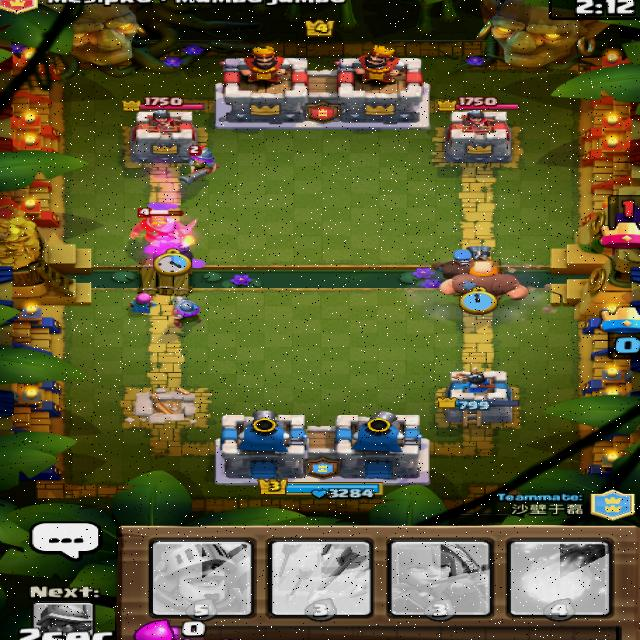Enemy-Knight: (128, 207, 196, 247)
Enemy-Musketeer: (175, 142, 218, 185)
Player-Archer: (126, 292, 156, 314)
Player-Giant: (438, 258, 529, 300)
Player-GiantBomb: (152, 236, 194, 275)
Player-Hunter: (431, 246, 488, 276)
Player-Musketeer: (169, 293, 202, 329)
